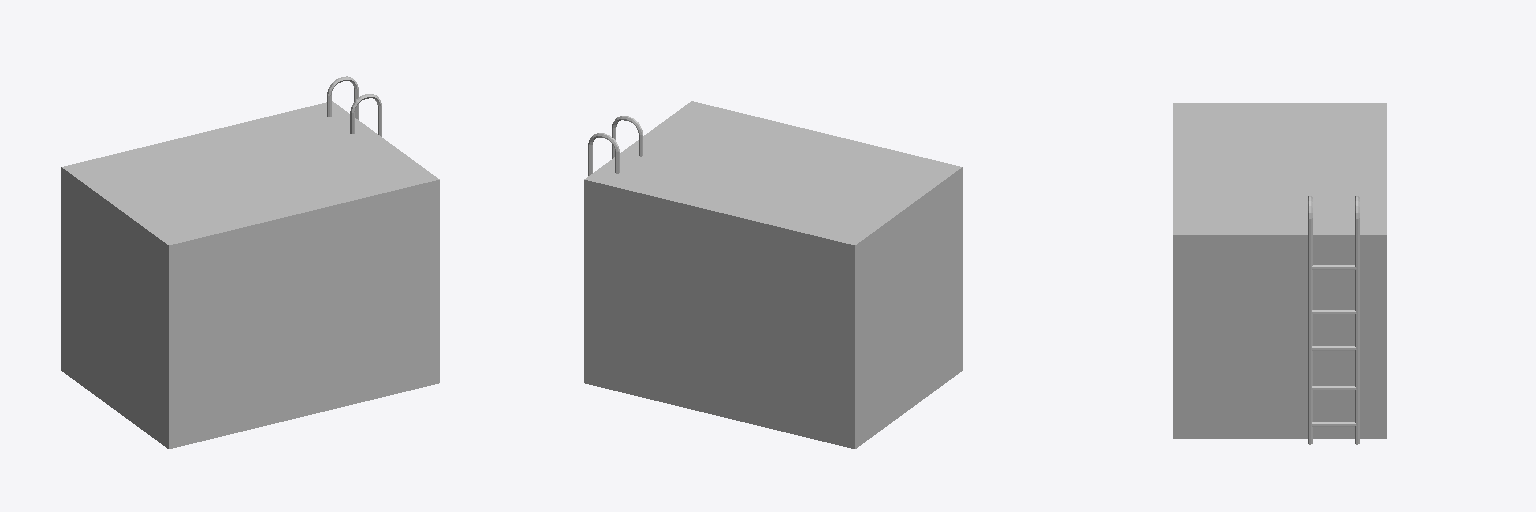
3 views of the same model, side by side, from view 1: azimuth 30°, elevation 25°; view 2: azimuth 150°, elevation 25°; view 3: azimuth 270°, elevation 25° (orthographic).
Visible parts, largest first — view 1: bxgrhsx_hlj_1018_01, srx_yzdx_1018_01; view 2: bxgrhsx_hlj_1018_01, srx_yzdx_1018_01; view 3: bxgrhsx_hlj_1018_01, srx_yzdx_1018_01.
Boxes of the visible parts, box(x1,y1,x2,y2) form: bxgrhsx_hlj_1018_01: box(61, 101, 439, 448); srx_yzdx_1018_01: box(327, 76, 381, 136); bxgrhsx_hlj_1018_01: box(584, 101, 962, 448); srx_yzdx_1018_01: box(588, 116, 642, 175); bxgrhsx_hlj_1018_01: box(1173, 103, 1386, 438); srx_yzdx_1018_01: box(1308, 196, 1359, 444).
Bounding box in the file's own units: 364 × 296 × 240.